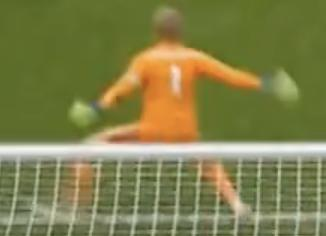goalkeeper: (40, 2, 311, 236)
